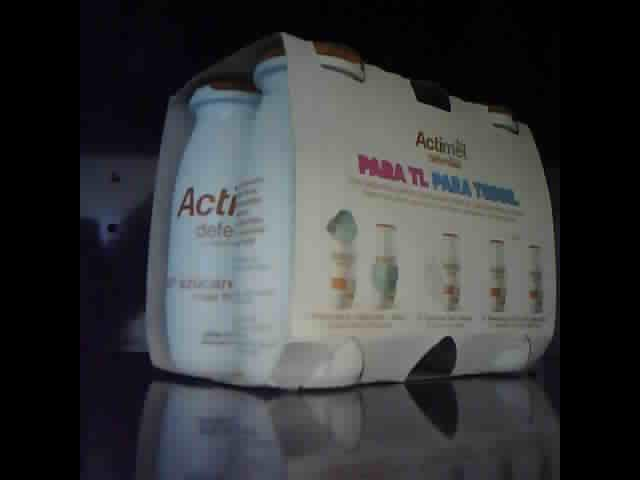actimel: (145, 29, 559, 392)
